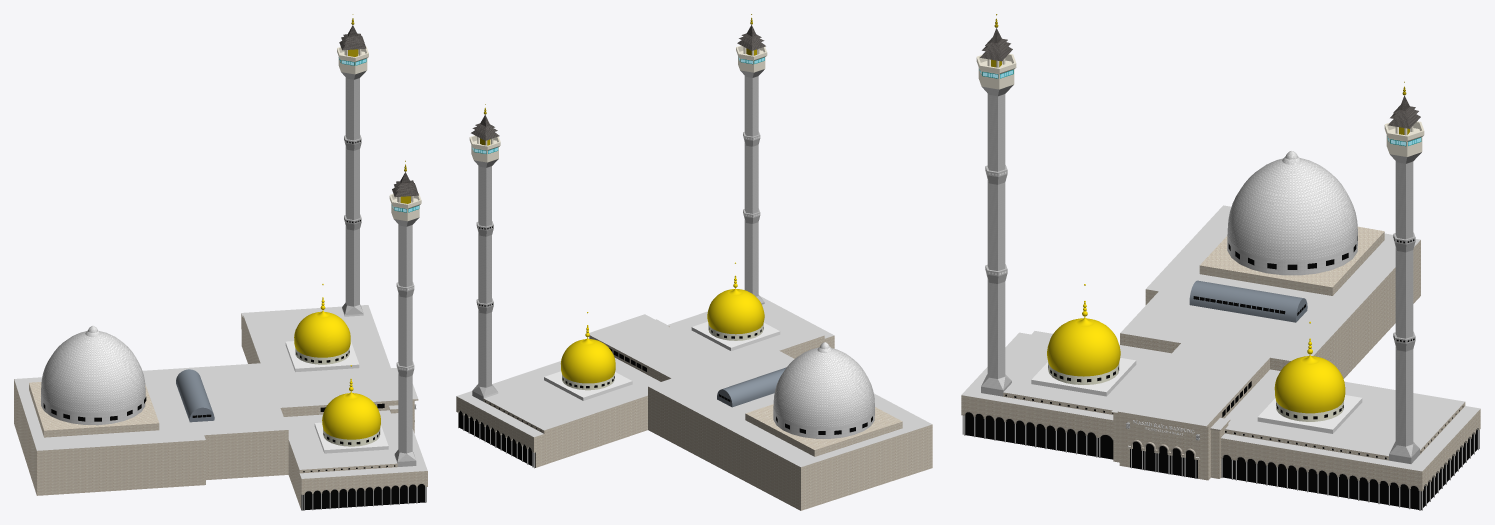
The model's file is masjid_agung_bandung.glb.
The picture shows the model from 3 angles, left to right: view 1: azimuth 30°, elevation 25°; view 2: azimuth 150°, elevation 25°; view 3: azimuth 270°, elevation 25°; orthographic projection. The views are drawn at different scales.
Visible parts, largest first — view 1: Material2 (×12), Material3; view 2: Material2 (×12), Material3; view 3: Material2 (×15), Material3.
Boxes of the visible parts, left/top/right/bottom form: Material2 (×12): left=14, top=25, right=427, bottom=510; Material3: left=14, top=305, right=427, bottom=478; Material2 (×12): left=456, top=25, right=932, bottom=510; Material3: left=456, top=296, right=931, bottom=466; Material2 (×15): left=961, top=28, right=1480, bottom=510; Material3: left=961, top=205, right=1480, bottom=471.
Size of the model in its own units: 4895 by 3797 by 4296.
24 materials, 11 textured.
